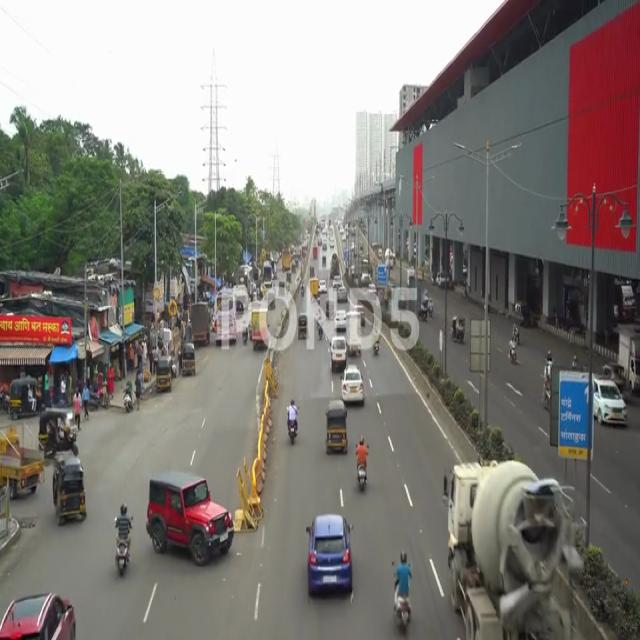car: (146, 472, 232, 566), (304, 505, 356, 606), (0, 578, 72, 640), (596, 376, 627, 444)
motorbike: (392, 549, 417, 629), (115, 502, 133, 580), (282, 390, 300, 448), (357, 438, 370, 494)
rikshaw: (52, 456, 87, 526), (328, 402, 346, 454)
truck: (428, 450, 593, 640)
